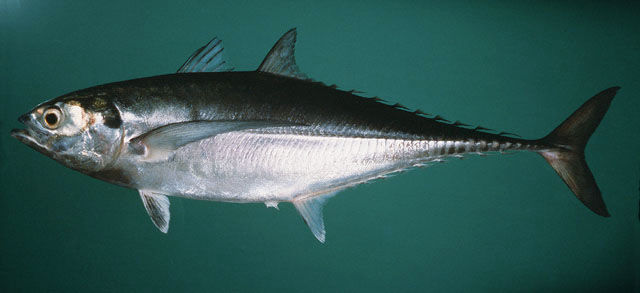fish: (10, 26, 621, 245)
